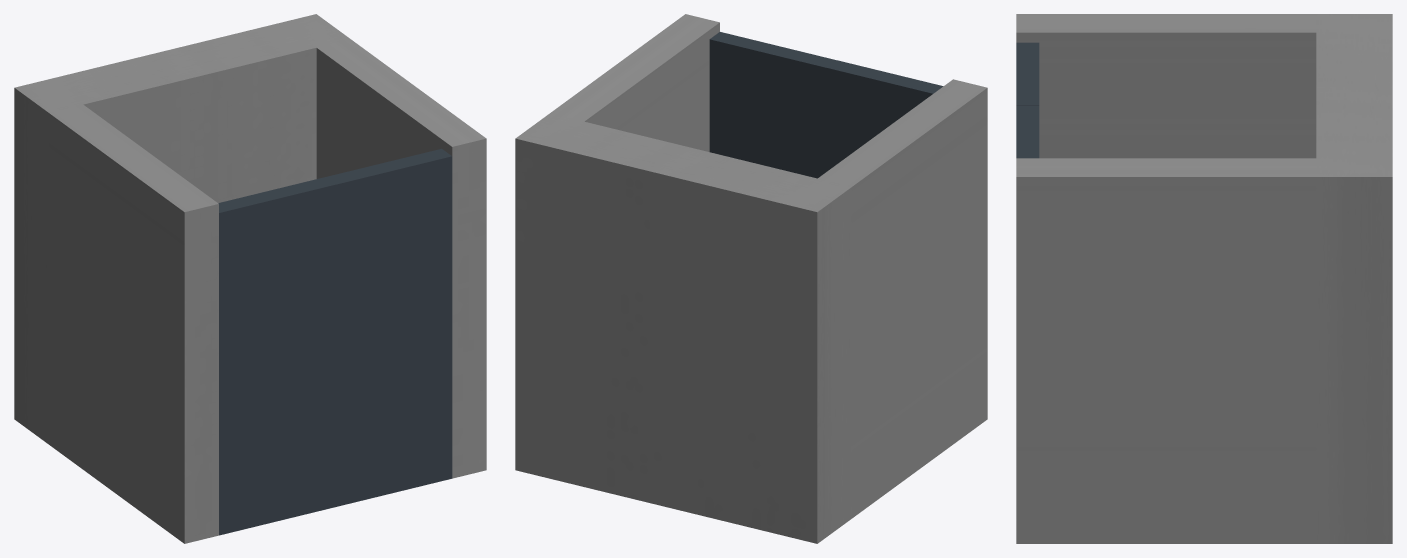
File: something.fbx
The picture shows the model from 3 angles, left to right: view 1: azimuth 30°, elevation 25°; view 2: azimuth 150°, elevation 25°; view 3: azimuth 270°, elevation 25°; orthographic projection. The views are drawn at different scales.
Parts seen in each view (by area): view 1: pCube14, pCube16, pCube15; view 2: pCube14, pCube16, pCube15; view 3: pCube14, pCube15, pCube16.
Part boxes in pixels (<box>): pCube14: <box>14,14,486,543</box>; pCube16: <box>325,148,452,506</box>; pCube15: <box>218,177,335,535</box>; pCube14: <box>515,14,987,543</box>; pCube16: <box>709,32,835,178</box>; pCube15: <box>826,60,943,171</box>; pCube14: <box>1016,14,1392,543</box>; pCube15: <box>1016,42,1039,105</box>; pCube16: <box>1016,106,1039,158</box>.
Bounding box in the file's own units: 2.63 × 2.77 × 2.57.
Materials: 1 (1 with a texture image).
